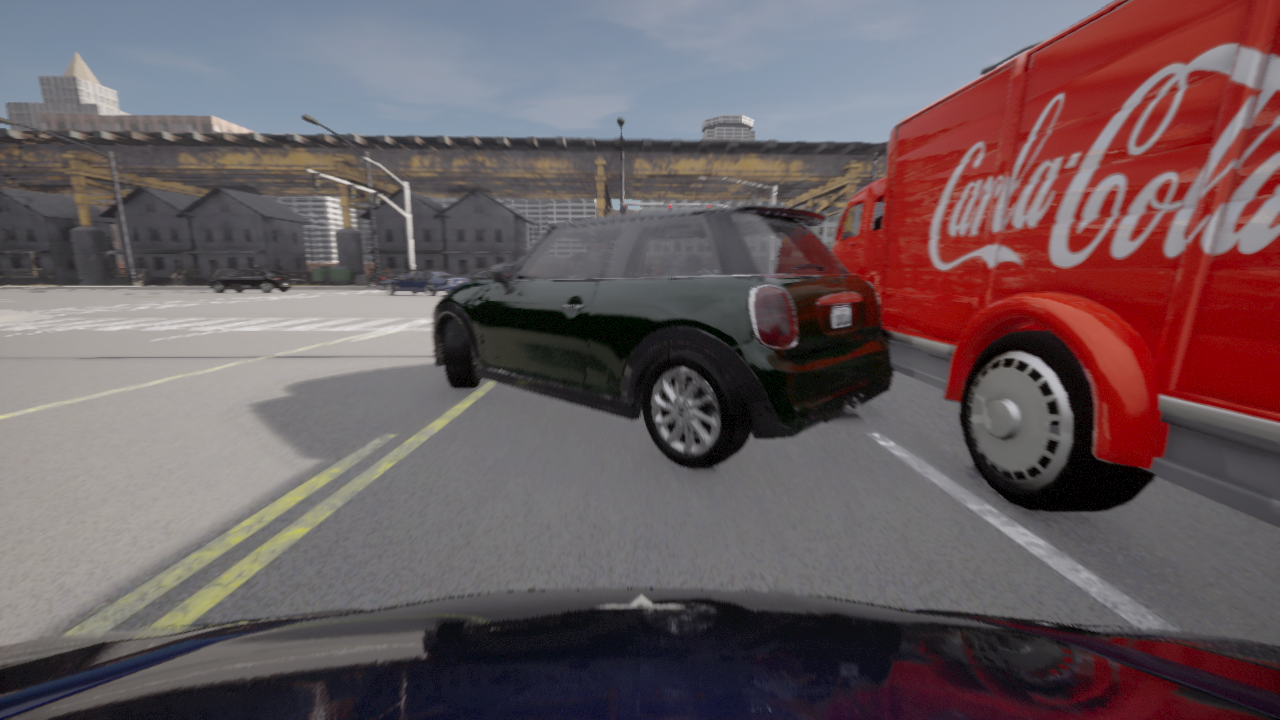cyclist: (809, 0, 1279, 526), (0, 588, 1279, 719), (432, 193, 892, 468), (378, 269, 468, 296), (208, 269, 291, 293), (459, 268, 490, 281), (367, 273, 384, 289)
